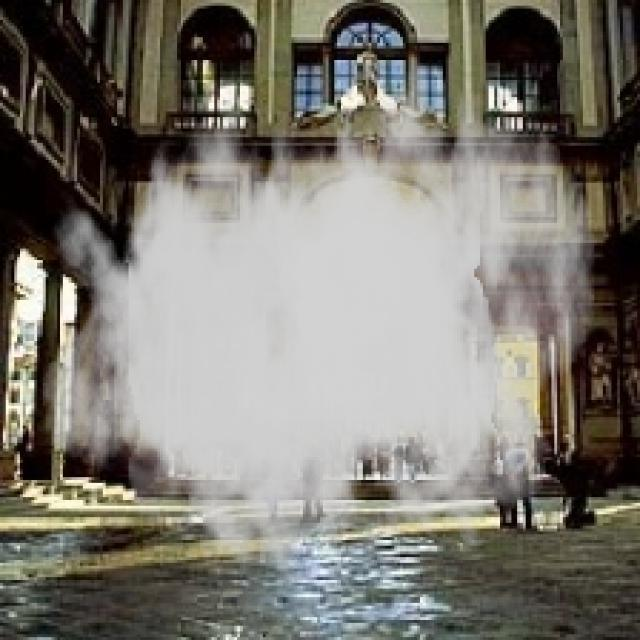Smoke: (40, 32, 597, 594)
